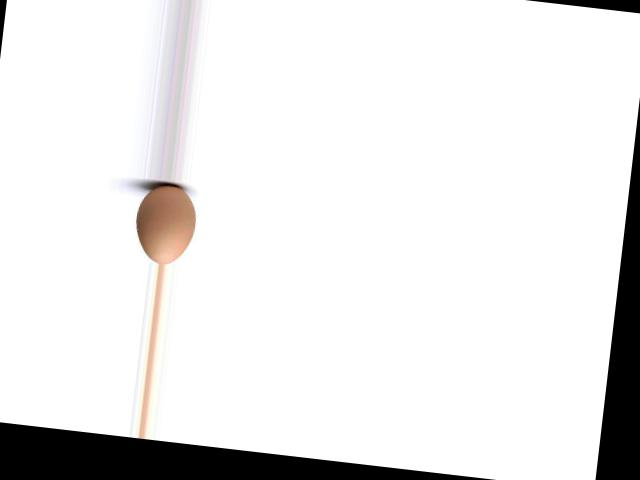egg: (132, 181, 199, 266)
